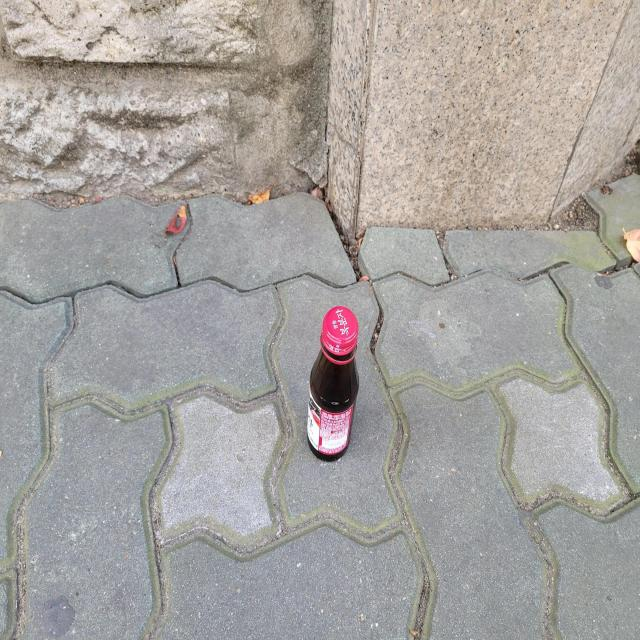glass: (307, 306, 359, 461)
